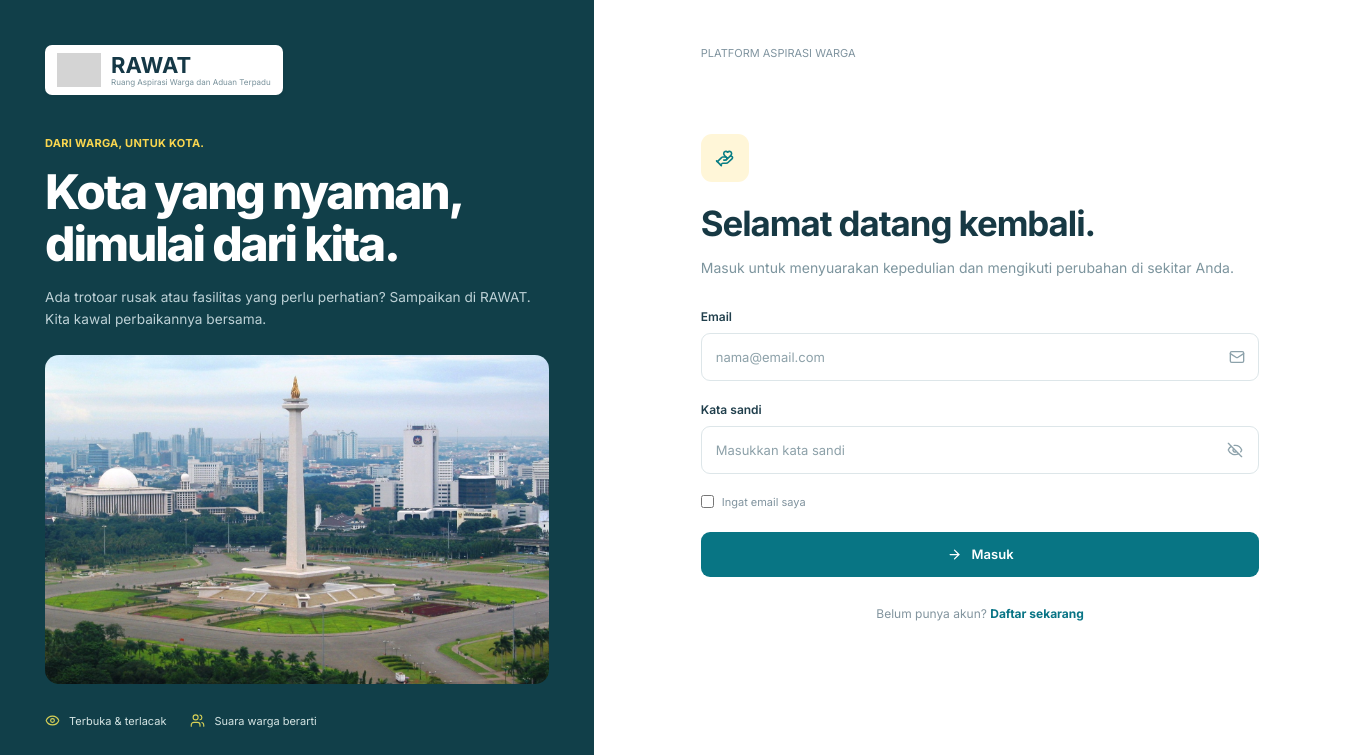
Test: PenggunaView.handleRegister › C17-UT04 - Registrasi berhasil
Click the button "Daftar sekarang" at (1037, 613), box [990, 606, 1084, 621]
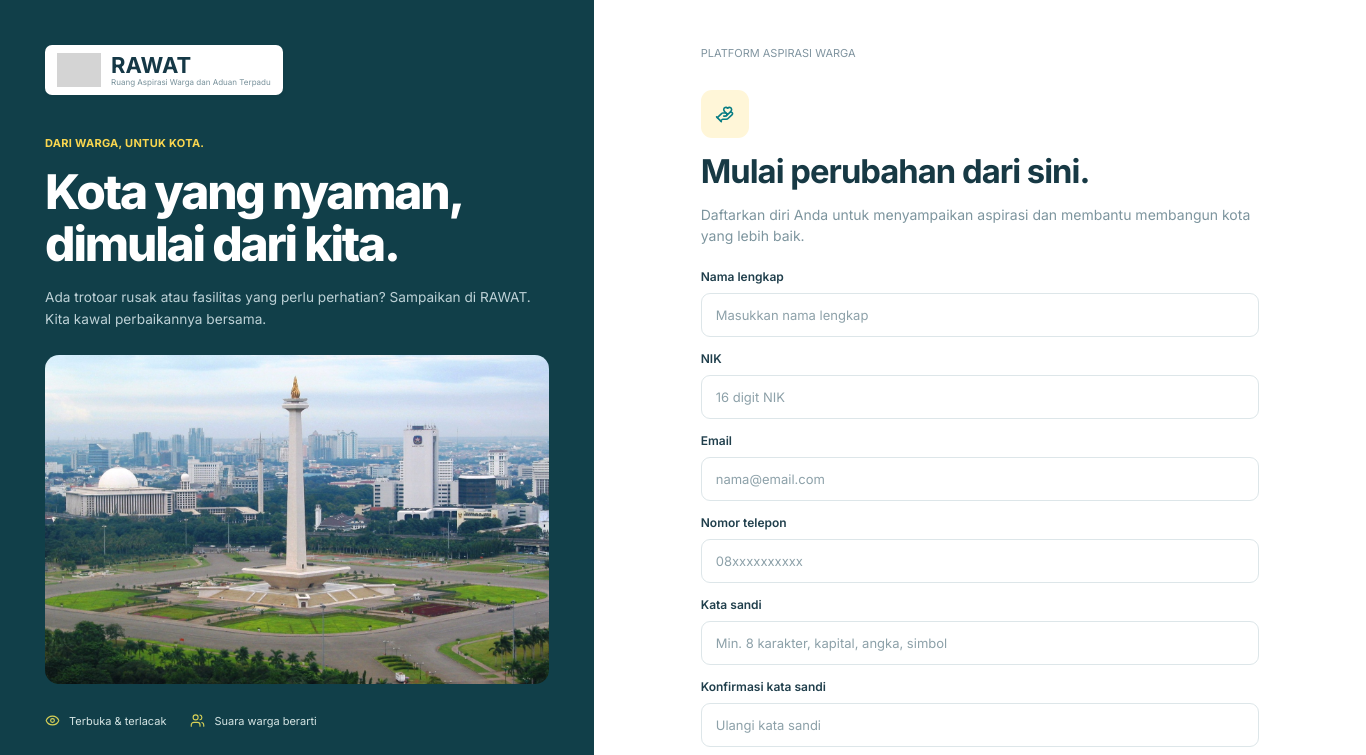
Type "Samantha" into the field labelled "Nama lengkap" at (980, 315), box [701, 293, 1260, 337]
Type "1234567890123456" into the field labelled "NIK" at (980, 397), box [701, 375, 1260, 419]
Type "samantha@example.com" into the field labelled "Email" at (980, 479), box [701, 457, 1260, 501]
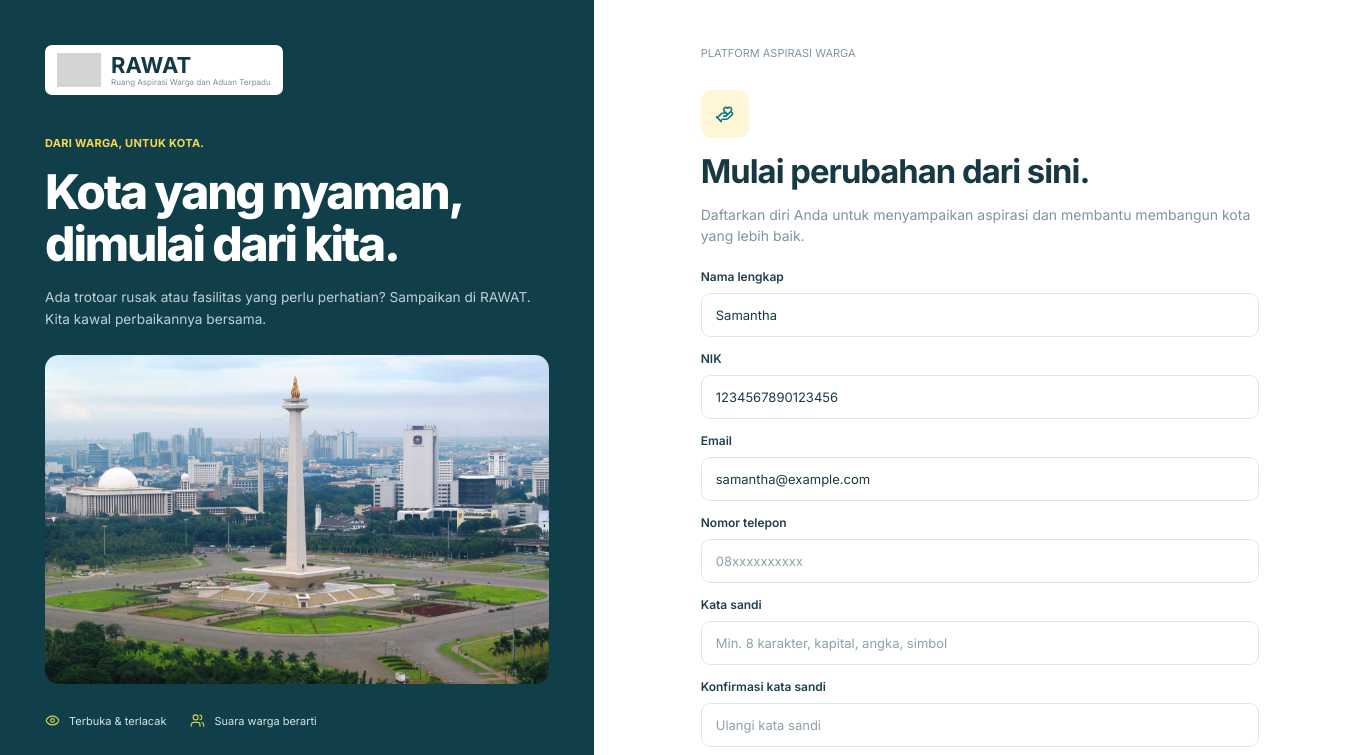
Type "081234567890" into the field labelled "Nomor telepon" at (980, 561), box [701, 539, 1260, 583]
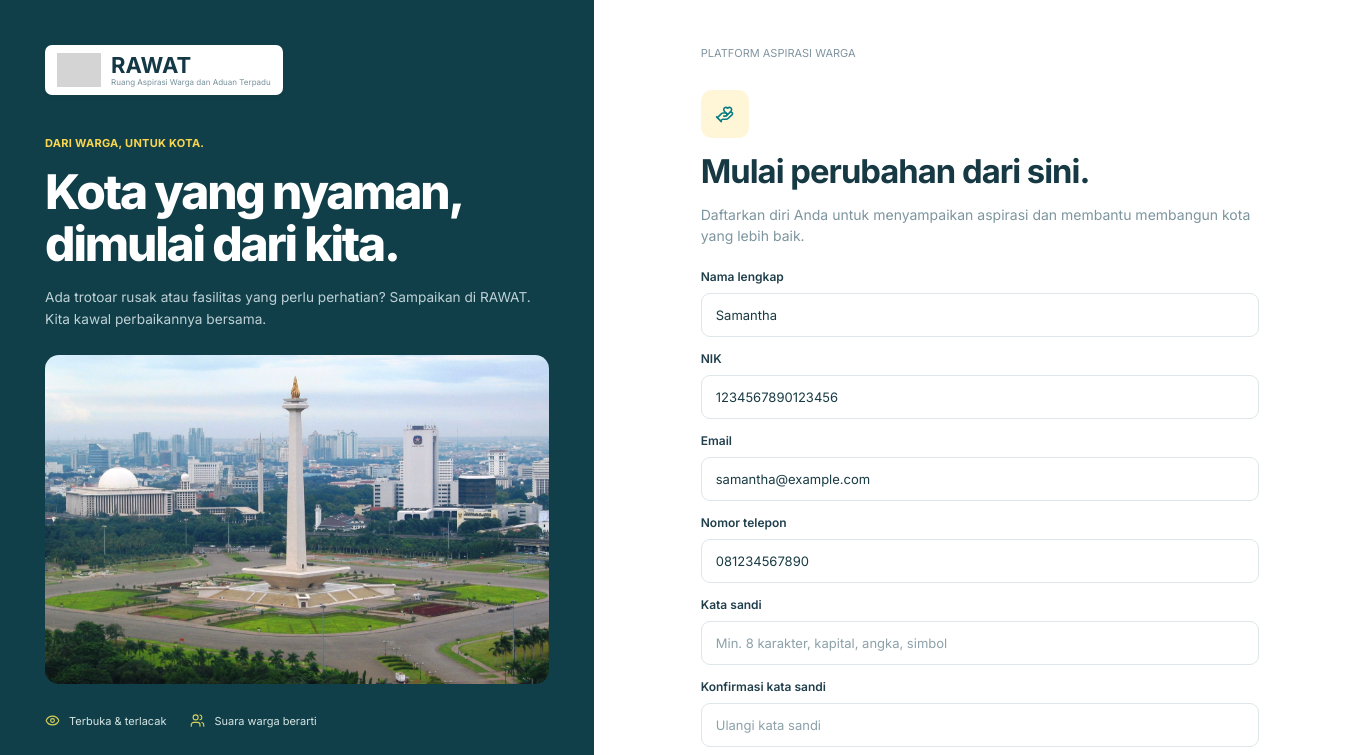
Type "Password1!" into the password field labelled "Kata sandi" at (980, 643), box [701, 621, 1260, 665]
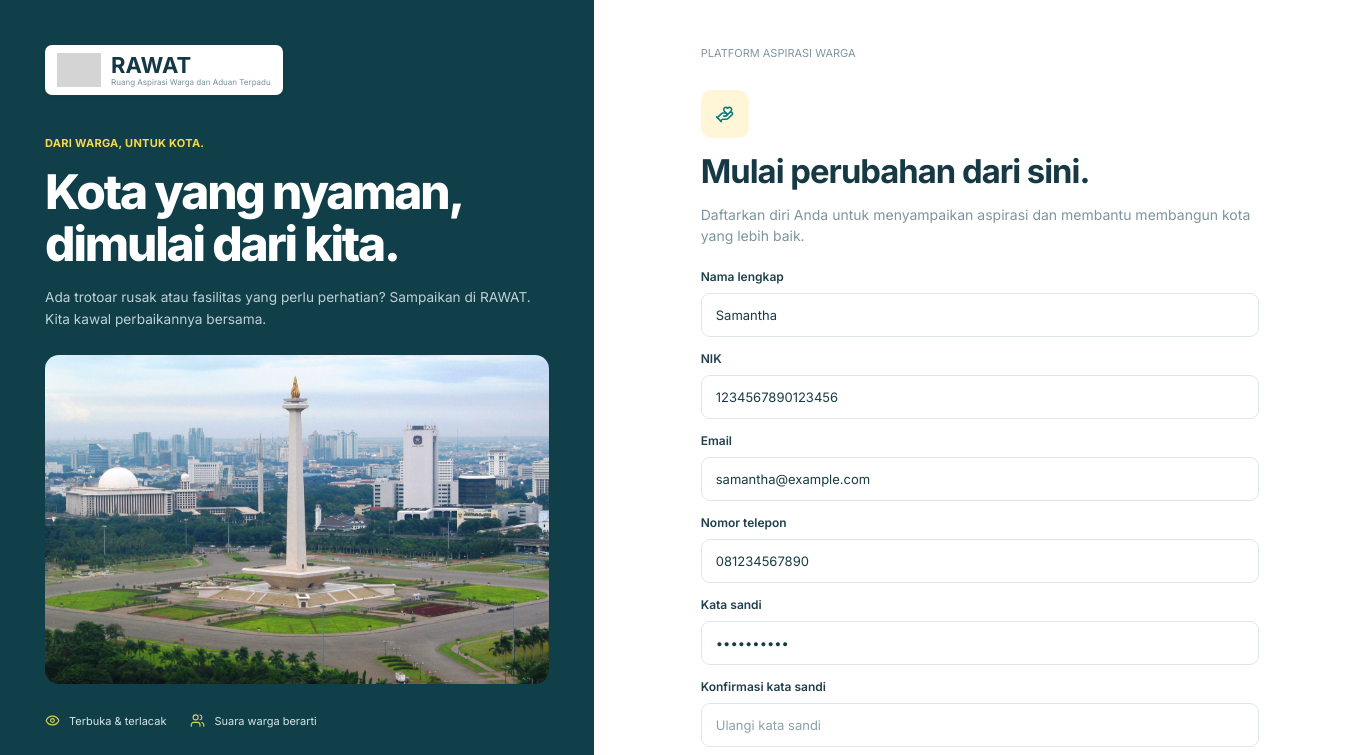
Type "Password1!" into the password field labelled "Konfirmasi kata sandi" at (980, 725), box [701, 703, 1260, 747]
(page scrolled)
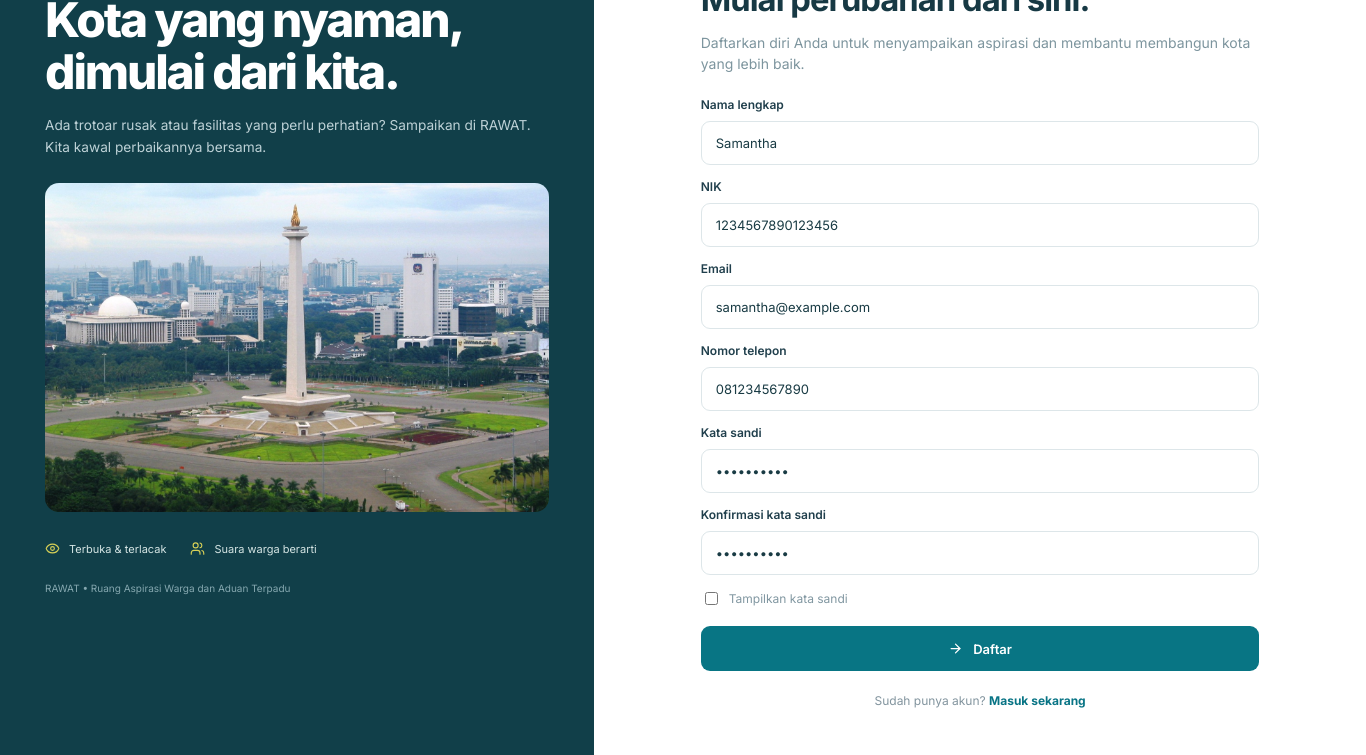
Submit the form named "daftar", box [701, 97, 1260, 671]
(page scrolled)
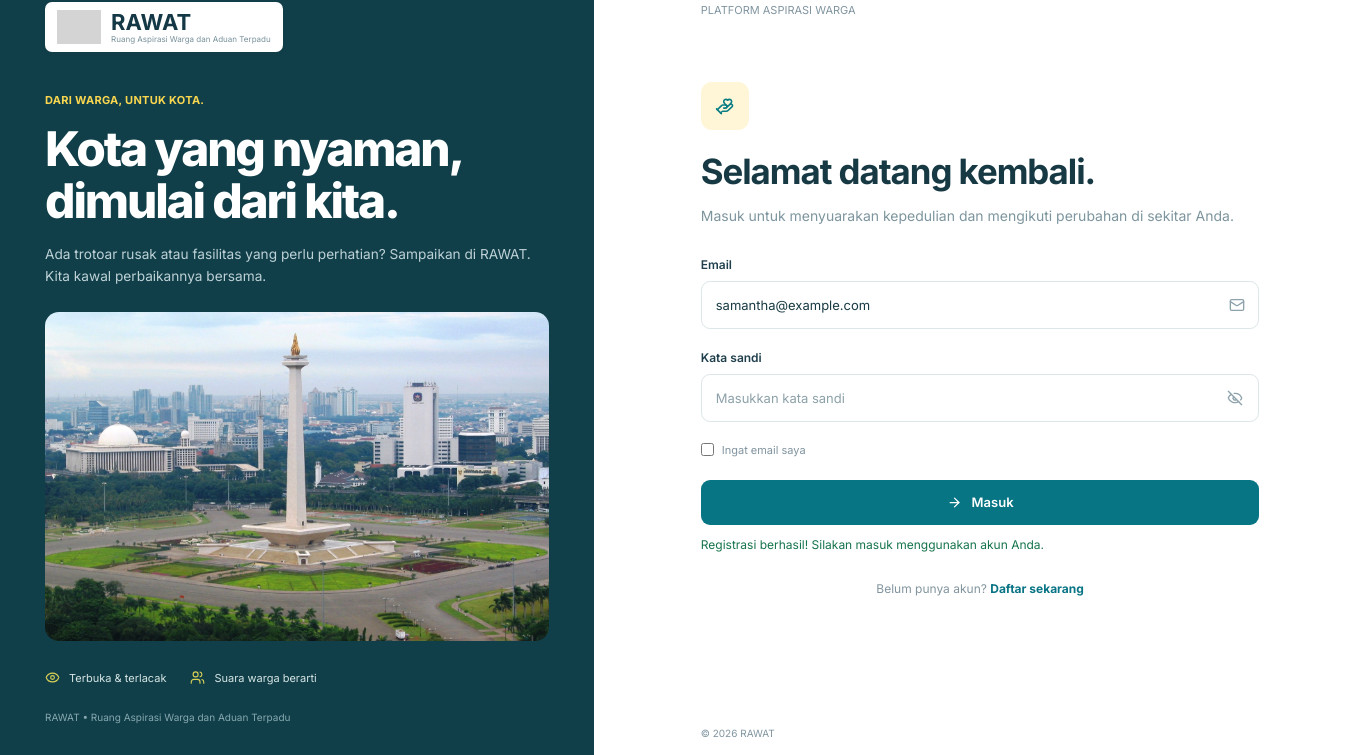
expect the text "Registrasi berhasil! Silakan masuk menggunakan akun Anda." is shown: met, box [701, 537, 1044, 552]
expect the field with id "login-email" holds "samantha@example.com": met, box [701, 281, 1260, 329]
